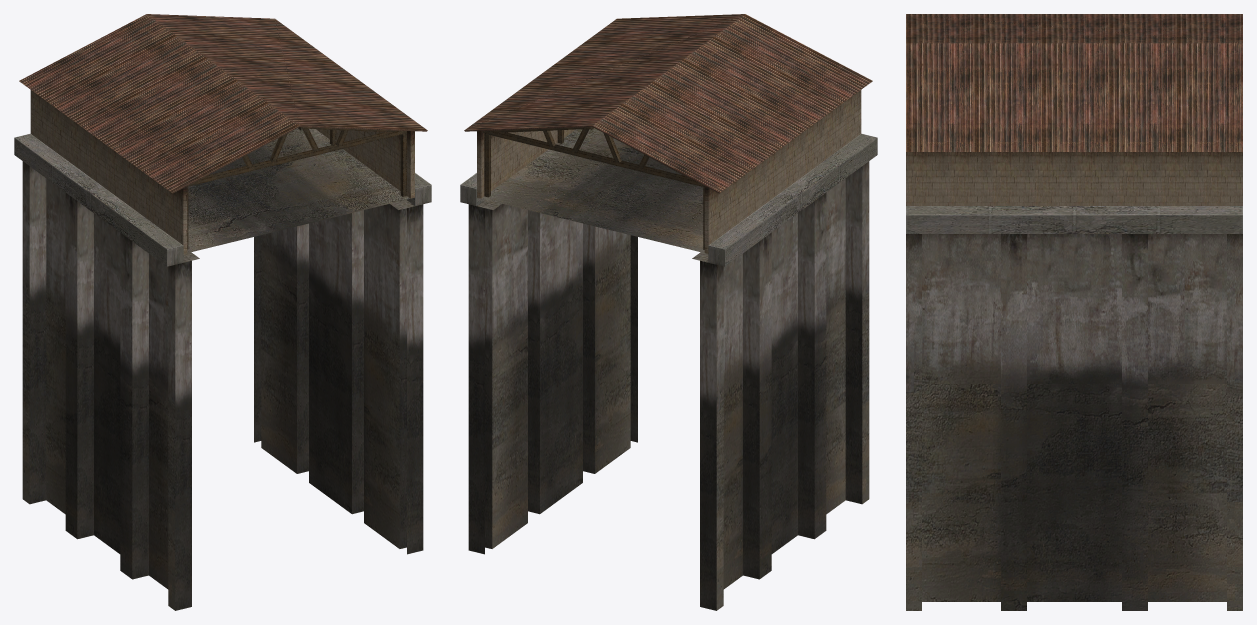
Rendered from Dockarm2.glb.
3 renders of one model, left to right at view 1: azimuth 30°, elevation 25°; view 2: azimuth 150°, elevation 25°; view 3: azimuth 270°, elevation 25°, orthographic. The views are drawn at different scales.
Visible parts, largest first — view 1: _Dockarm2; view 2: _Dockarm2; view 3: _Dockarm2.
Part boxes in pixels (bbox=[...]): _Dockarm2: bbox=[14, 14, 431, 610]; _Dockarm2: bbox=[460, 14, 877, 610]; _Dockarm2: bbox=[906, 14, 1242, 610].
Bounding box in the file's own units: 16 × 26.28 × 16.
Materials: 2 (2 with a texture image).
